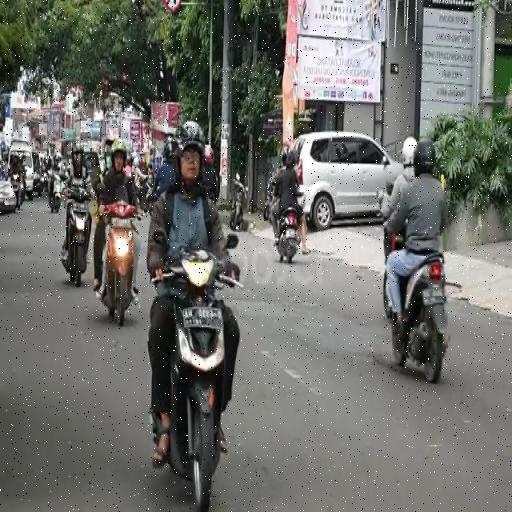Helmet: (176, 121, 204, 159), (414, 140, 435, 176), (402, 137, 417, 166), (72, 145, 84, 177), (112, 139, 127, 164), (163, 137, 173, 160), (205, 144, 214, 166), (285, 151, 295, 168), (281, 146, 289, 166)
Motor: (164, 251, 242, 511), (392, 253, 448, 382), (103, 202, 135, 325), (62, 191, 91, 287), (276, 208, 300, 263), (230, 173, 247, 230), (48, 172, 65, 212), (137, 176, 154, 212), (264, 171, 276, 220), (11, 173, 24, 210), (383, 269, 391, 319), (40, 170, 48, 195)
